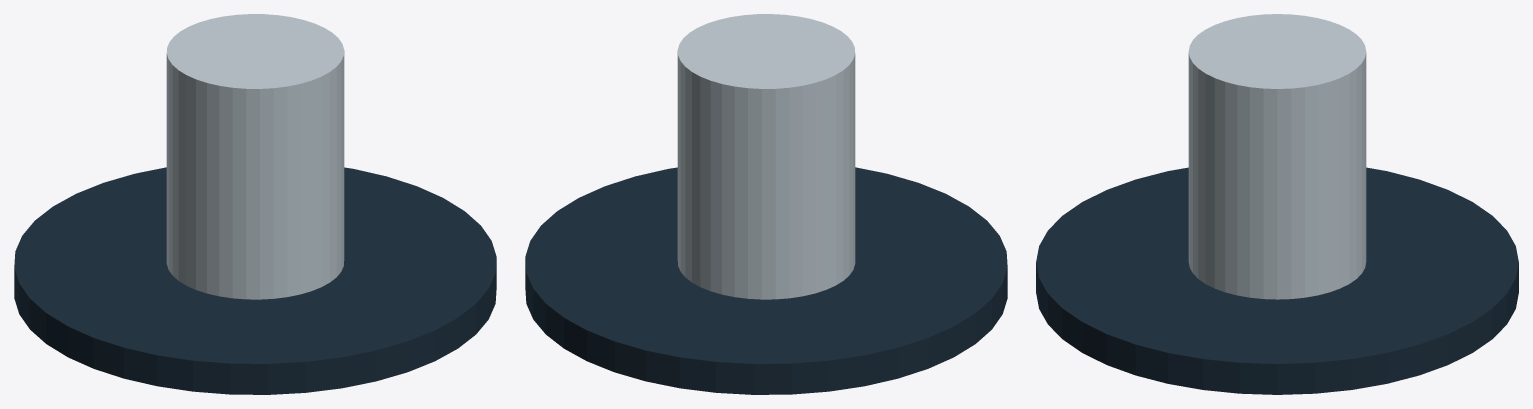
Rendered from 08_L76_CathodeRotarySpindle.fbx.
The picture shows the model from 3 angles, left to right: view 1: azimuth 30°, elevation 25°; view 2: azimuth 150°, elevation 25°; view 3: azimuth 270°, elevation 25°; orthographic projection.
Parts seen in each view (by area): view 1: CathodeRotarySpindle_Part_0001, CathodeRotarySpindle; view 2: CathodeRotarySpindle_Part_0001, CathodeRotarySpindle; view 3: CathodeRotarySpindle_Part_0001, CathodeRotarySpindle.
Part boxes in pixels (x1=…): CathodeRotarySpindle_Part_0001: x1=14, y1=167, x2=496, y2=394; CathodeRotarySpindle: x1=166, y1=14, x2=344, y2=299; CathodeRotarySpindle_Part_0001: x1=525, y1=167, x2=1007, y2=394; CathodeRotarySpindle: x1=677, y1=14, x2=855, y2=299; CathodeRotarySpindle_Part_0001: x1=1036, y1=167, x2=1518, y2=394; CathodeRotarySpindle: x1=1188, y1=14, x2=1366, y2=299.
Size of the model in its own units: 212 by 125 by 212.
